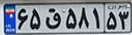character: (45, 6, 63, 30), (77, 6, 92, 32), (28, 7, 43, 31), (63, 7, 77, 30), (16, 7, 29, 30), (118, 9, 131, 31), (92, 4, 103, 28), (106, 11, 118, 31)
